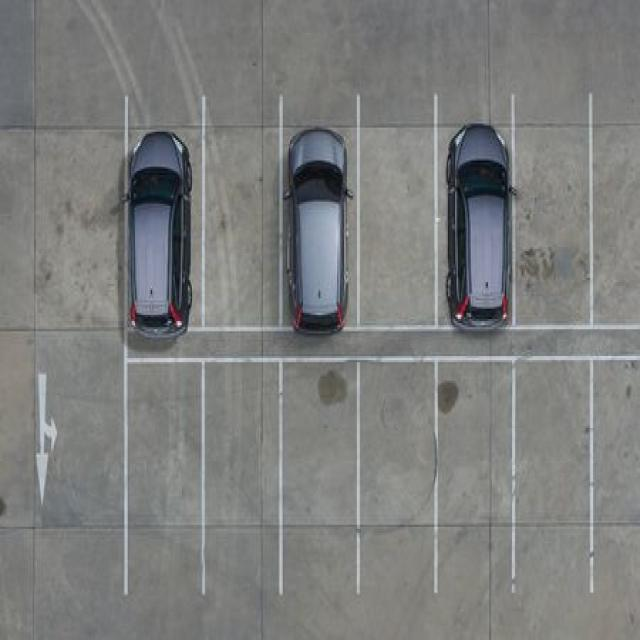libre: (124, 361, 639, 595), (520, 115, 640, 329), (361, 128, 433, 340), (212, 125, 277, 345)
ocupado: (434, 108, 514, 337), (126, 119, 201, 350), (284, 116, 359, 334)
